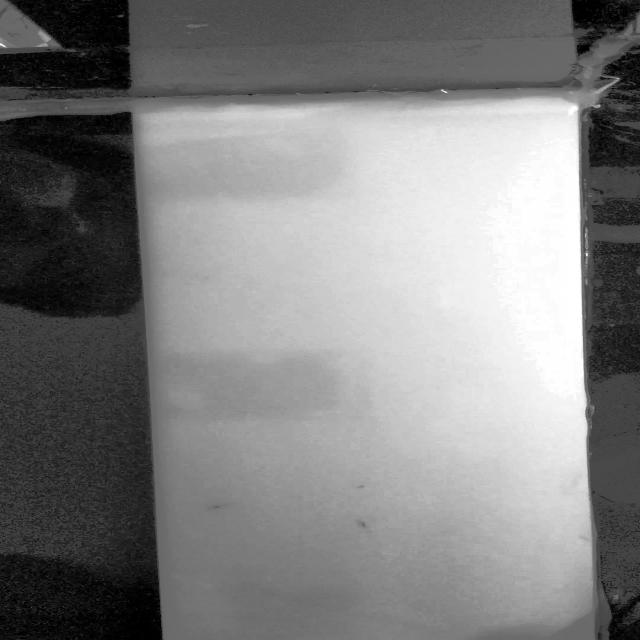shrimp: (205, 497, 252, 521), (343, 513, 380, 534)
